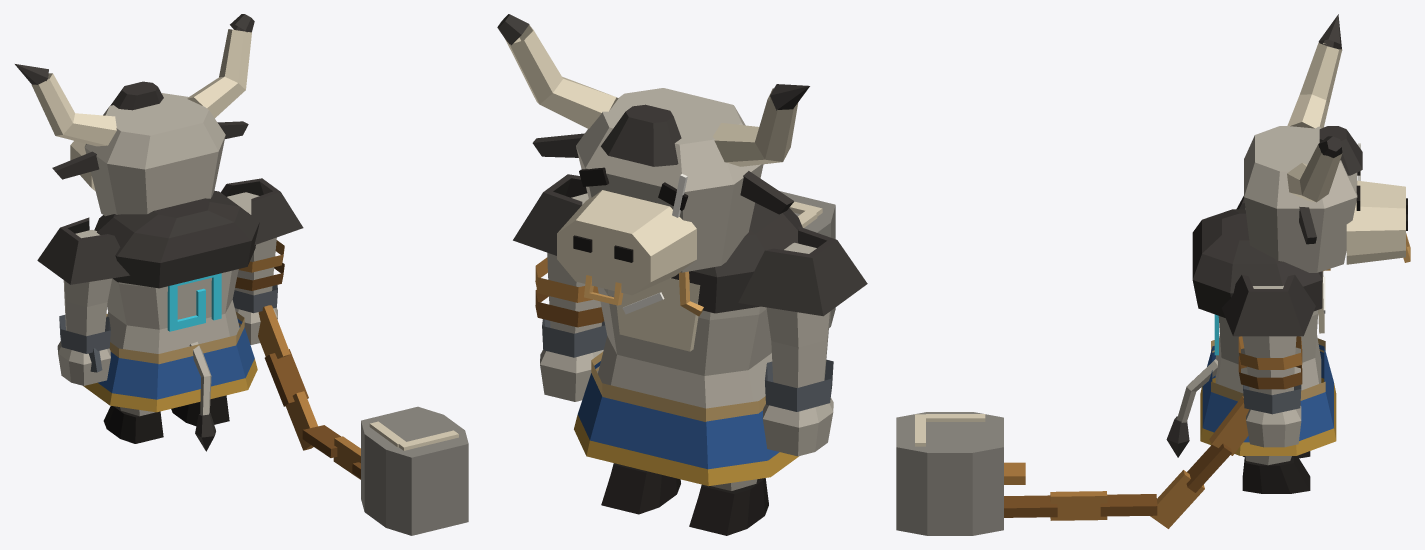
The model's file is CH_Asterion.fbx.
The picture shows the model from 3 angles, left to right: view 1: azimuth 30°, elevation 25°; view 2: azimuth 150°, elevation 25°; view 3: azimuth 270°, elevation 25°; orthographic projection. The views are drawn at different scales.
Visible parts, largest first — view 1: Body, Head, Chain, ArmL, ArmR, LegL, LegR; view 2: Head, Body, ArmL, ArmR, LegL, LegR, Chain; view 3: Head, Chain, Body, ArmR, LegR.
Part boxes in pixels (<box>): Body: <box>83,190,259,451</box>; Head: <box>15,14,254,216</box>; Chain: <box>258,305,468,535</box>; ArmL: <box>37,217,129,385</box>; ArmR: <box>221,178,303,344</box>; LegL: <box>103,406,163,443</box>; LegR: <box>171,395,229,425</box>; Head: <box>497,14,809,305</box>; Body: <box>574,203,802,486</box>; ArmL: <box>738,226,867,456</box>; ArmR: <box>513,174,607,401</box>; LegL: <box>689,478,768,535</box>; LegR: <box>601,463,680,514</box>; Chain: <box>779,191,835,327</box>; Head: <box>1244,14,1410,272</box>; Chain: <box>896,396,1249,535</box>; Body: <box>1166,209,1336,457</box>; ArmR: <box>1221,274,1315,447</box>; LegR: <box>1242,456,1310,493</box>.
Size of the model in its own units: 1.29 by 2.1 by 1.81.
